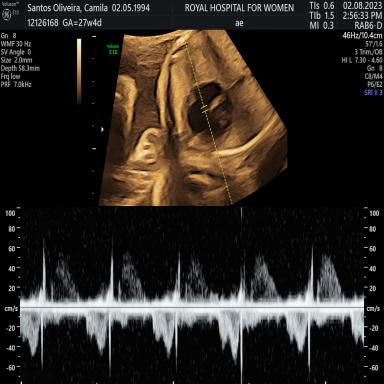Ultrasound-Waves: (24, 208, 361, 384)
